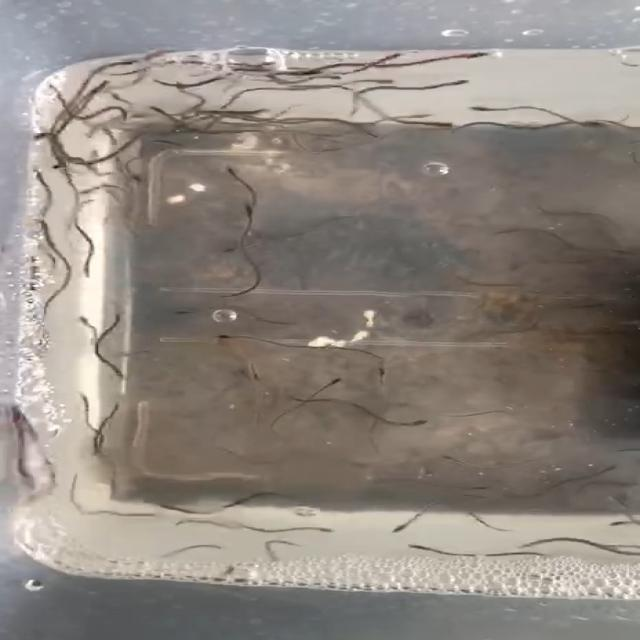inactive_glass_eel: (386, 516, 439, 539), (456, 51, 536, 66), (289, 517, 352, 536), (427, 72, 490, 90), (505, 538, 566, 556), (68, 308, 109, 331), (202, 329, 245, 346), (238, 358, 271, 380), (213, 244, 253, 262), (288, 70, 347, 82), (229, 201, 266, 220), (30, 216, 61, 238), (392, 539, 437, 554), (464, 100, 506, 116), (397, 415, 440, 430), (118, 170, 153, 188), (145, 103, 181, 118), (104, 365, 143, 378), (160, 80, 196, 94), (55, 165, 84, 182), (215, 165, 244, 182), (324, 373, 353, 390), (378, 52, 426, 62), (162, 306, 194, 321), (429, 116, 460, 131), (88, 86, 120, 100), (364, 76, 395, 90), (26, 131, 52, 144), (28, 168, 49, 184), (434, 451, 450, 468)
